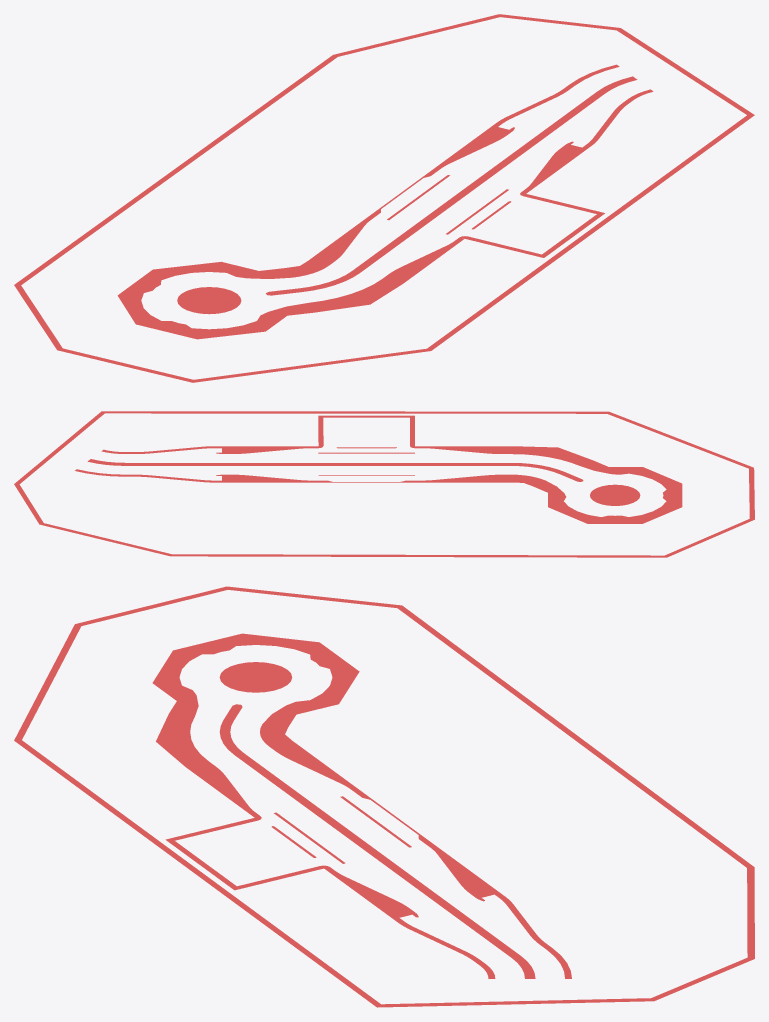
The model's file is pieraroadsbody.glb.
3 views of the same model, one above another, from view 1: azimuth 30°, elevation 25°; view 2: azimuth 150°, elevation 25°; view 3: azimuth 270°, elevation 25° (orthographic). The views are drawn at different scales.
Parts seen in each view (by area): view 1: piera; view 2: piera; view 3: piera.
Part boxes in pixels (<box>): piera: <box>14,14,754,382</box>; piera: <box>14,411,754,557</box>; piera: <box>14,586,754,1007</box>.
Bounding box in the file's own units: 546 × 0 × 406.
